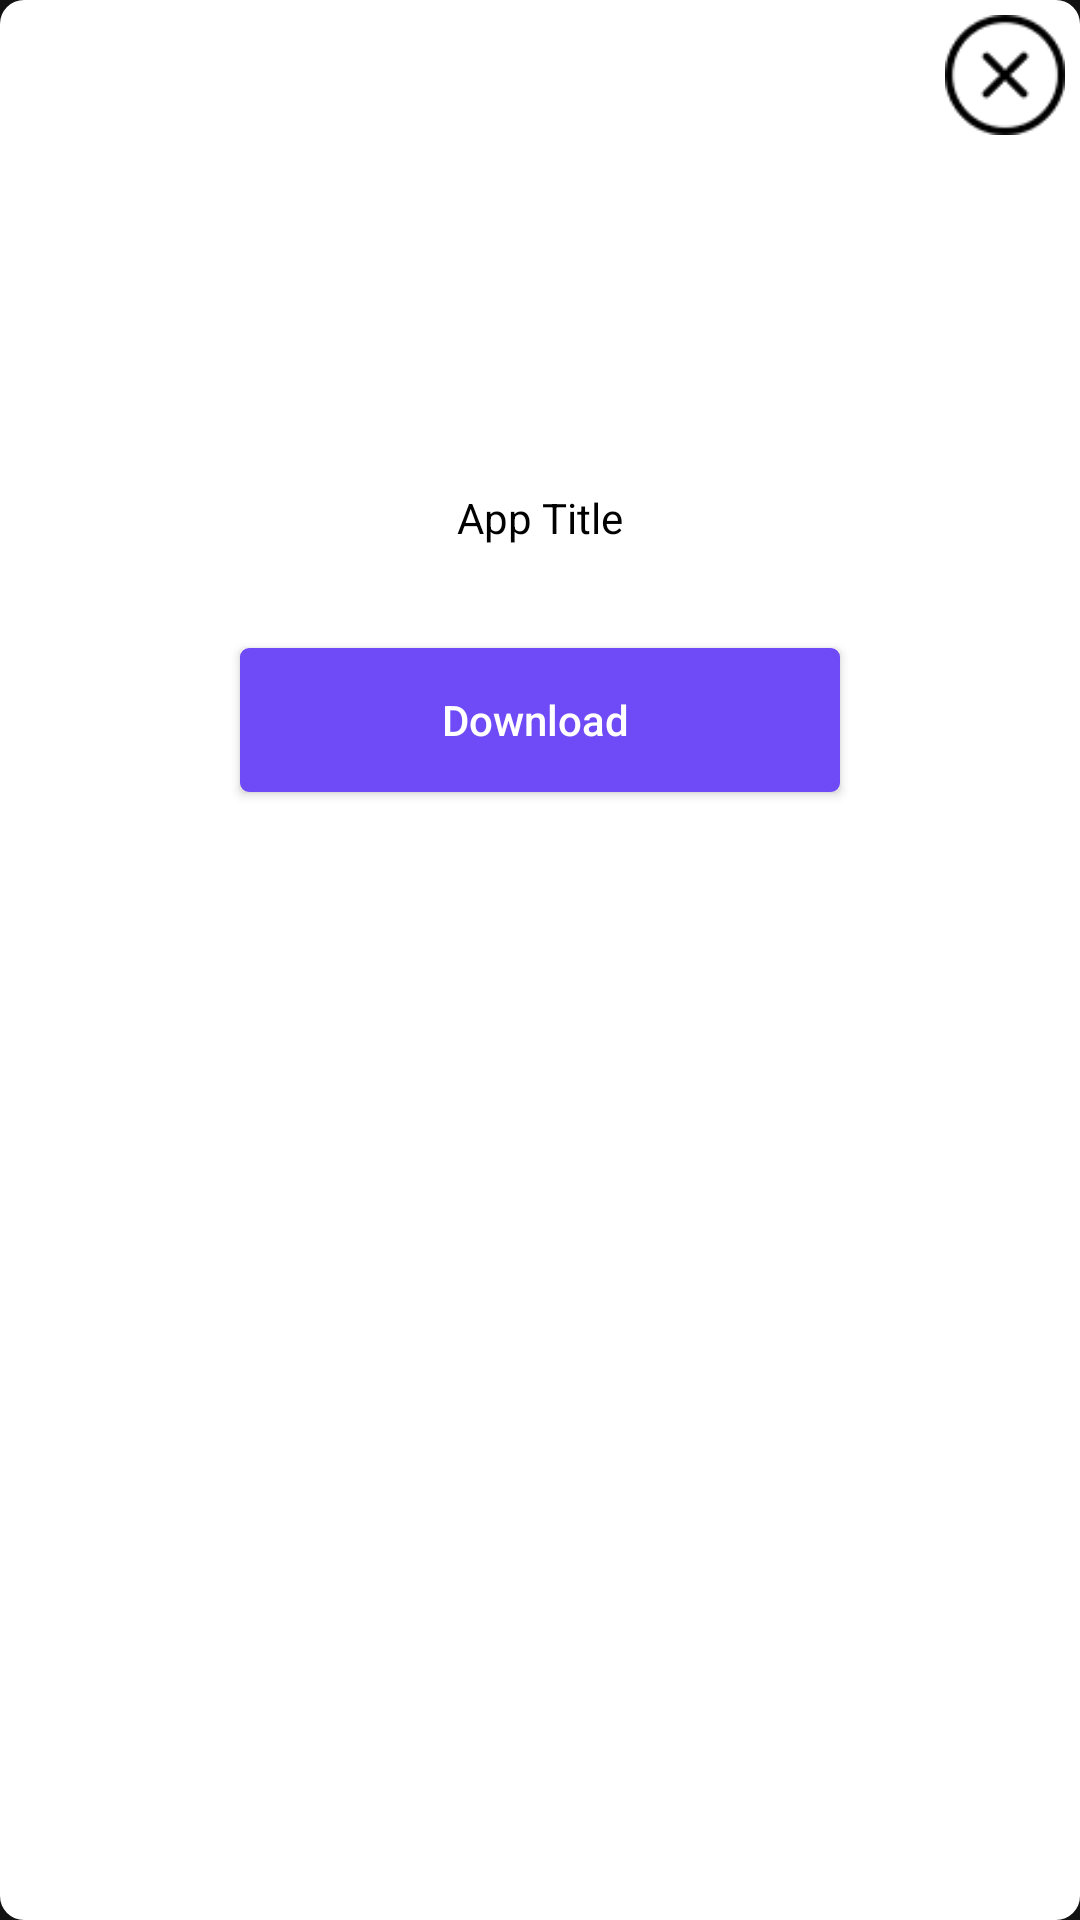

Screen size 1080×1920. Icon name, then its center in pixels as (x,y):
close dialoug: (1005,75)
